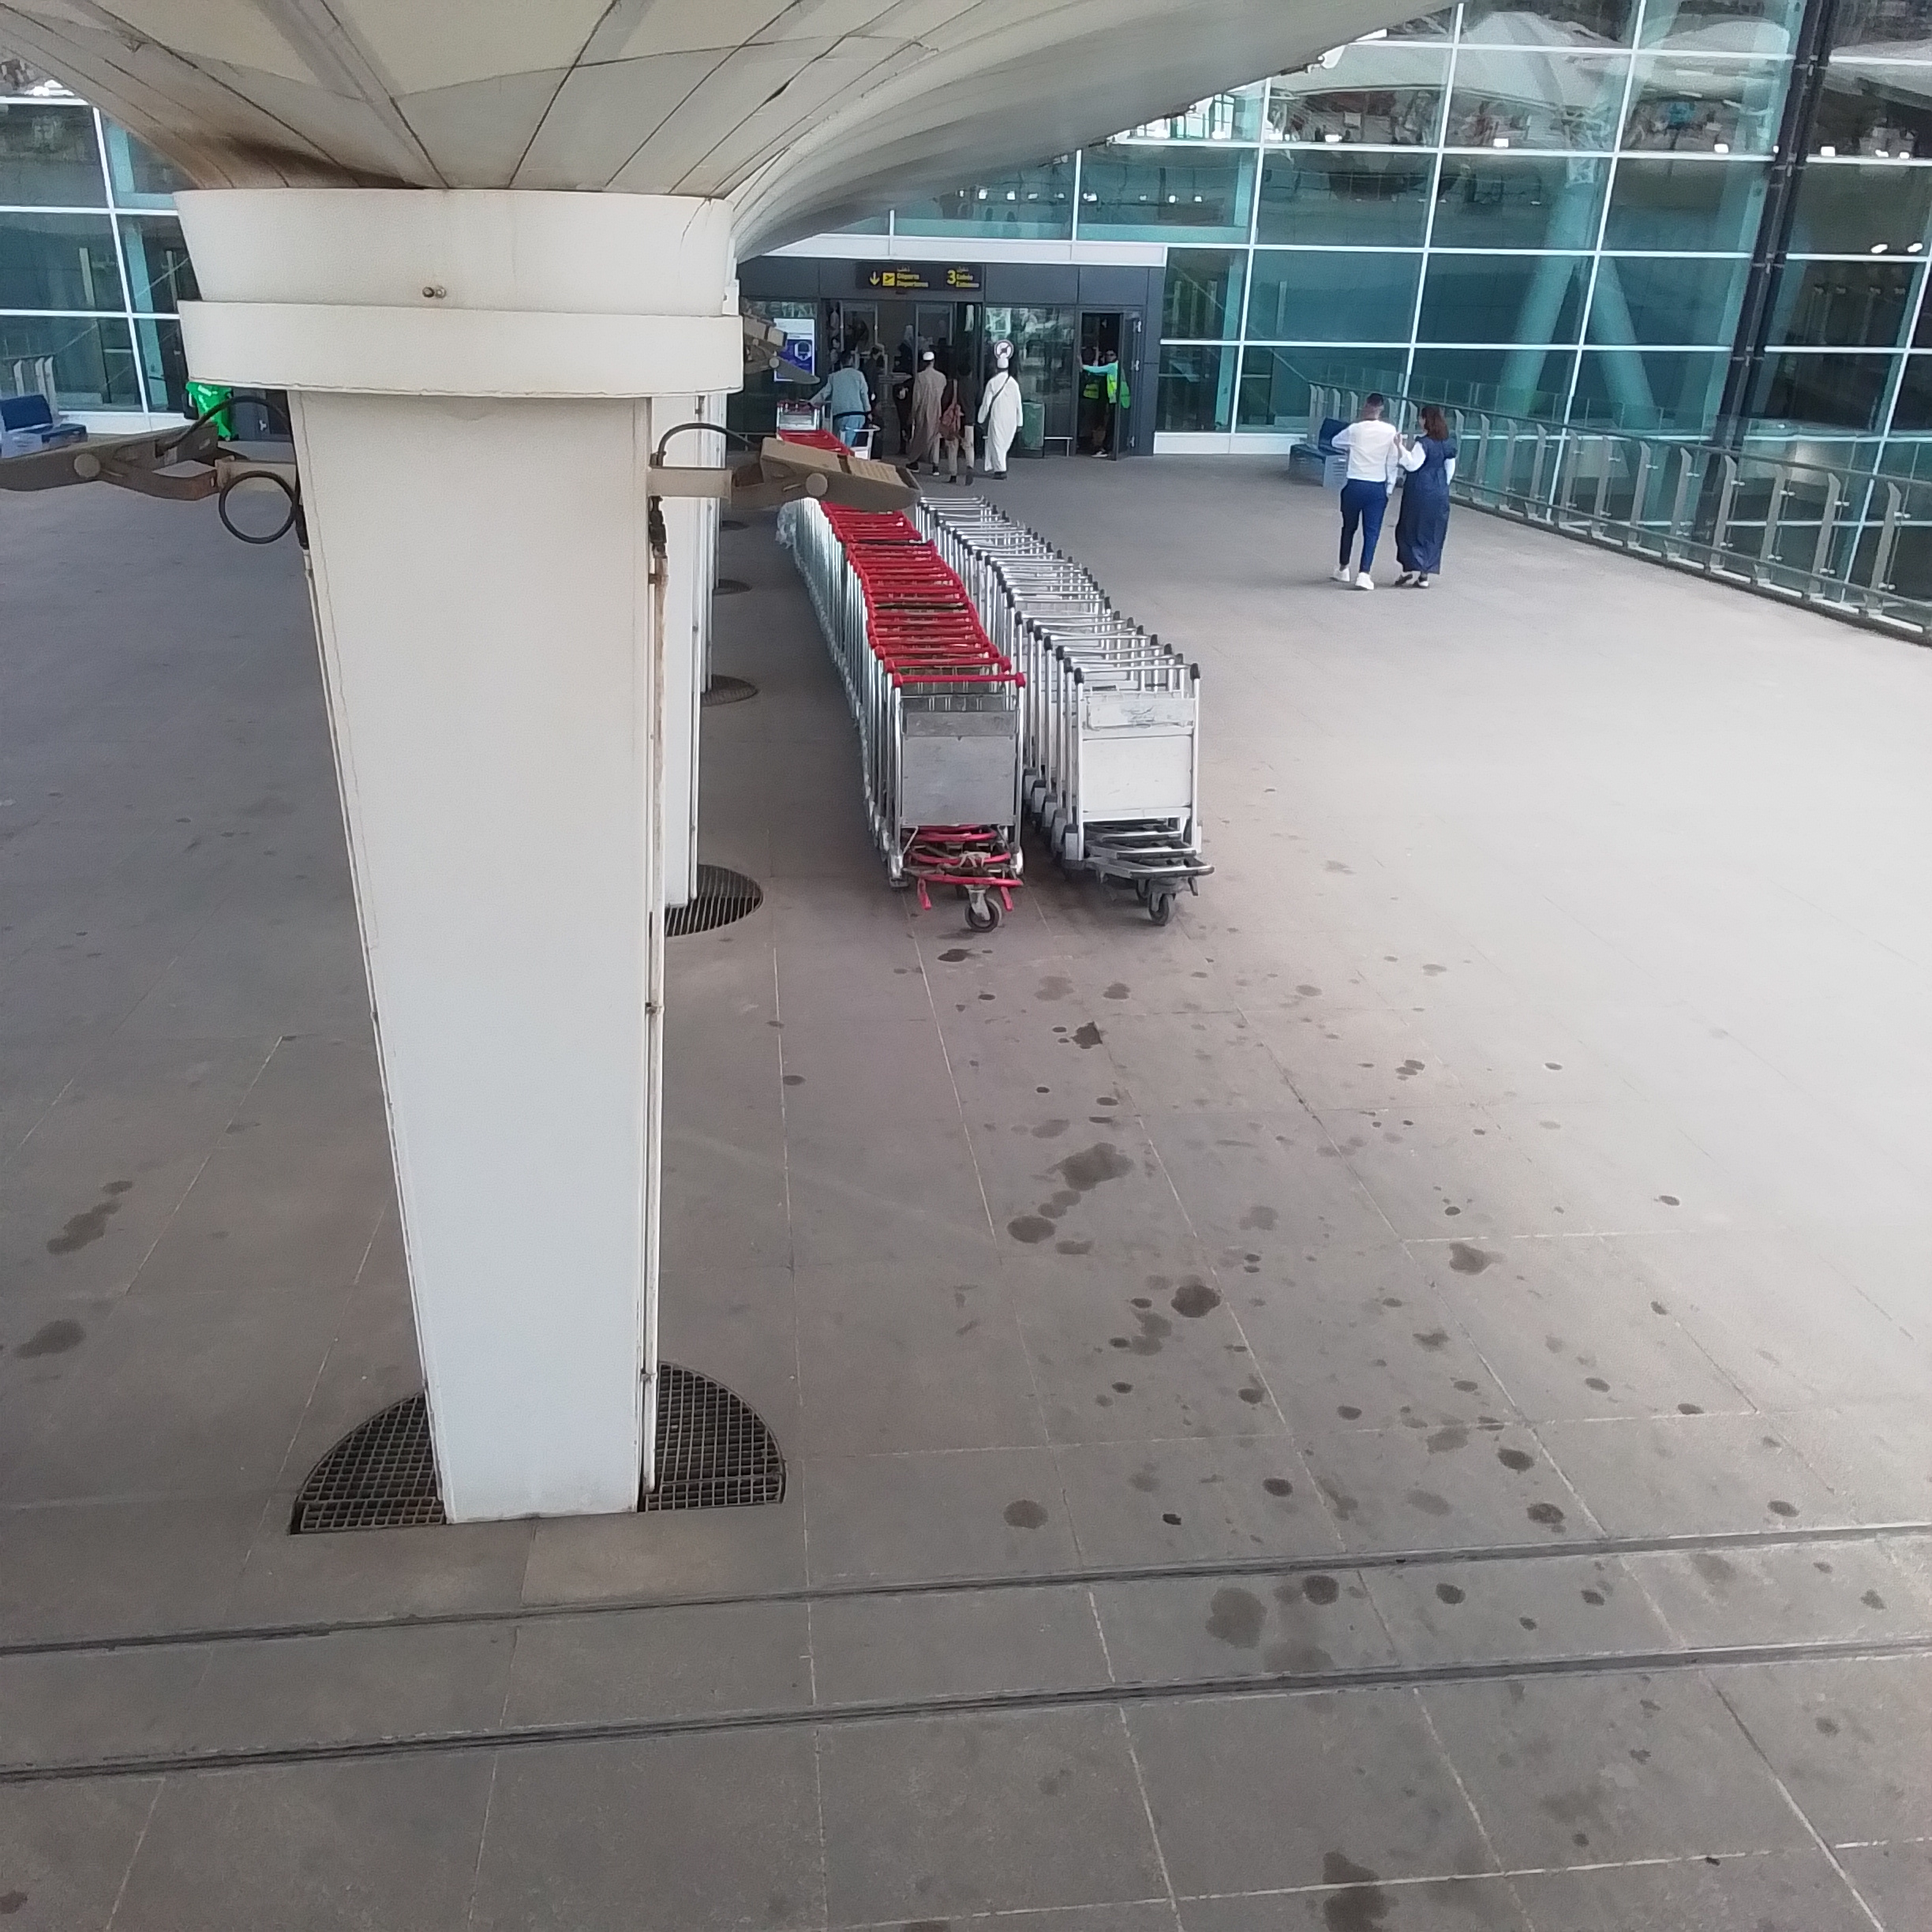airport-trolley: (1076, 662, 1224, 922), (895, 671, 1028, 890)
